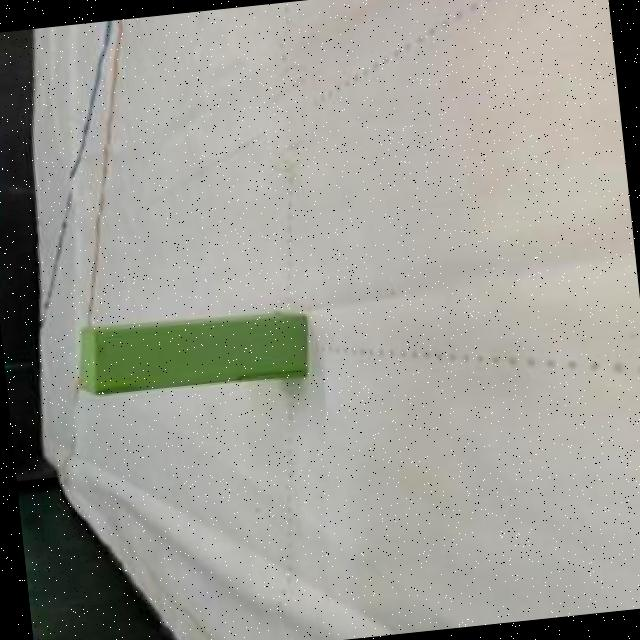greenbox: (66, 306, 312, 403)
